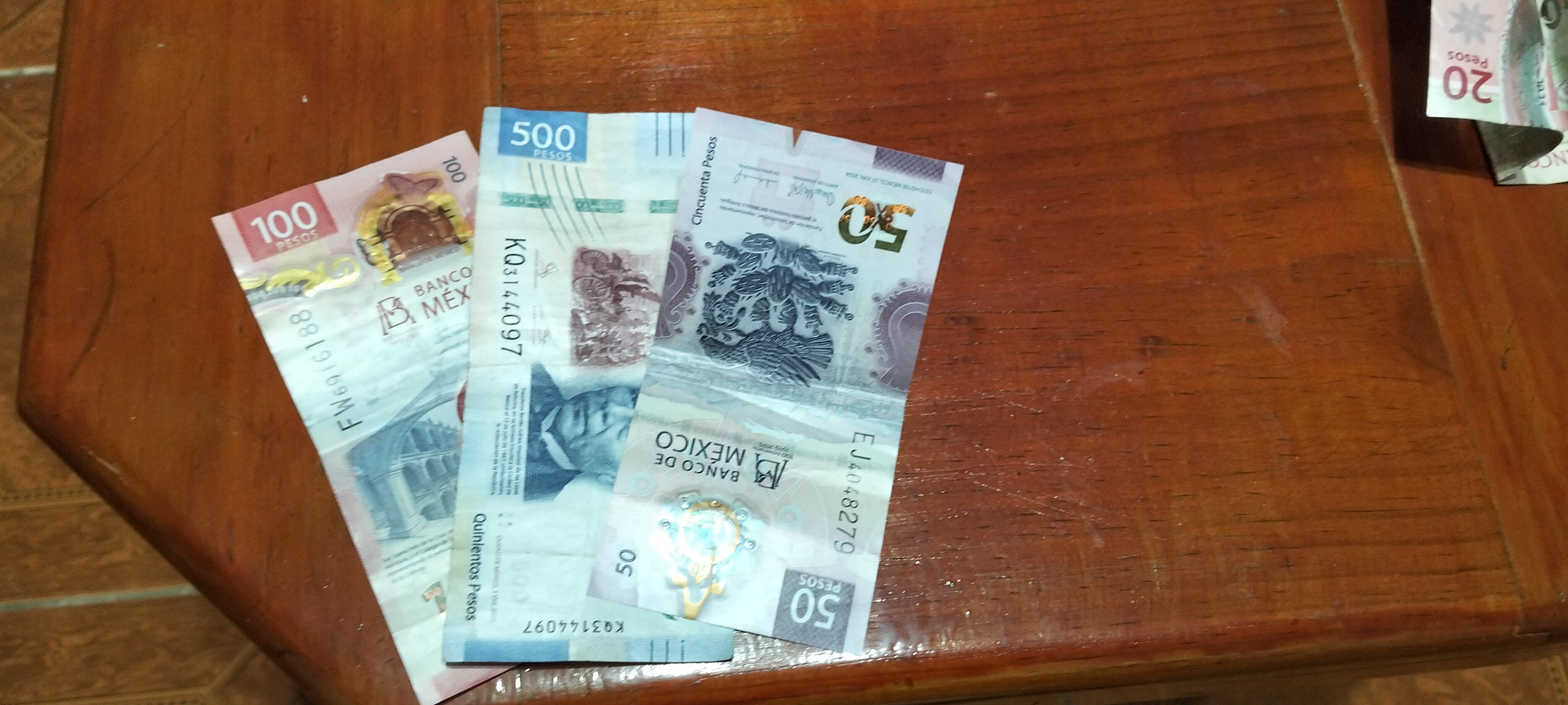billetes: (207, 94, 974, 701)
